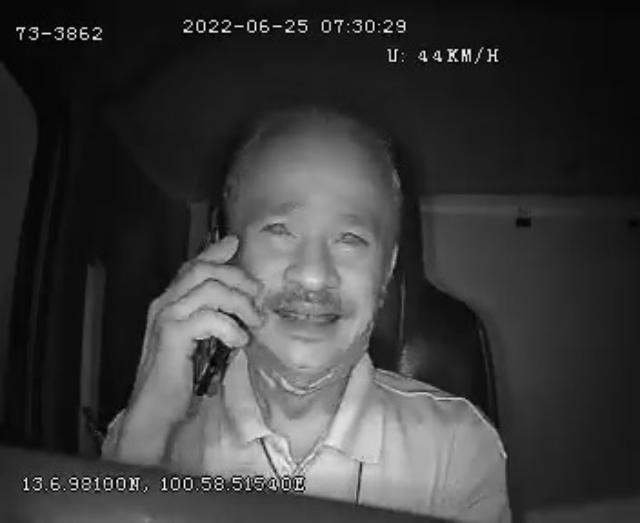PhoneUse: (190, 202, 240, 402)
SafeDriving: (324, 215, 377, 258), (250, 206, 304, 245)
